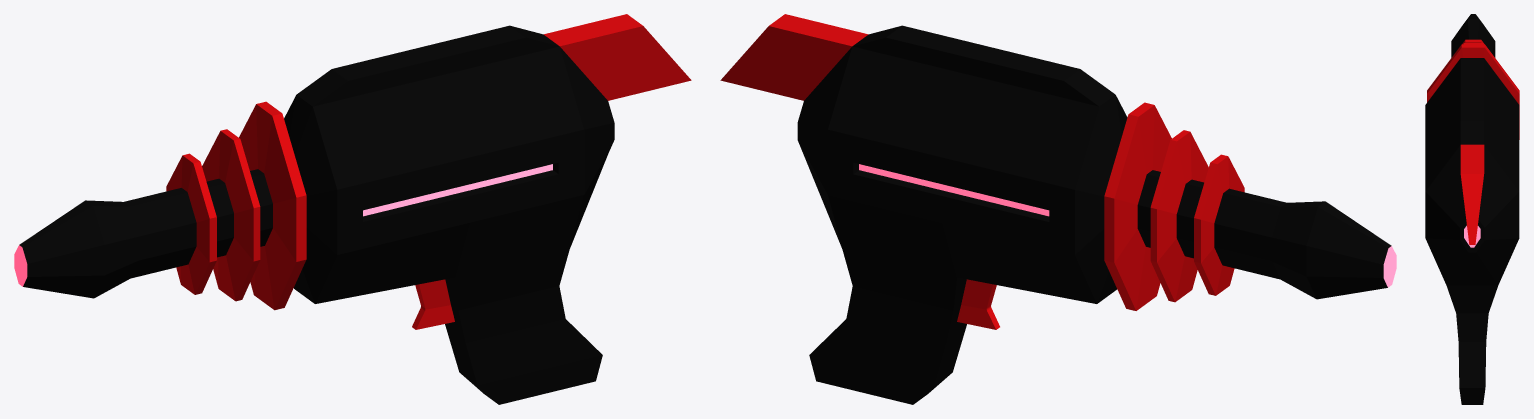
The model's file is PistoLazer.fbx.
3 renders of one model, left to right at view 1: azimuth 30°, elevation 25°; view 2: azimuth 150°, elevation 25°; view 3: azimuth 270°, elevation 25°, orthographic. The views are drawn at different scales.
Visible parts, largest first — view 1: Cube; view 2: Cube; view 3: Cube.
Boxes of the visible parts, box(x1,y1,x2,y2) form: Cube: box(14, 14, 691, 404); Cube: box(720, 14, 1396, 404); Cube: box(1425, 14, 1519, 404).
Size of the model in its own units: 180 by 92.82 by 30.47.
